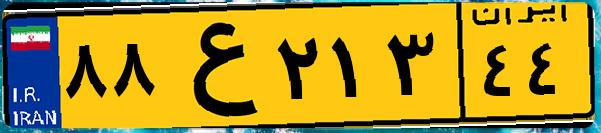1: (330, 28, 385, 110)
2: (270, 28, 330, 110)
3: (385, 28, 445, 110)
4: (475, 38, 525, 113), (525, 38, 570, 115)
8: (57, 26, 110, 100), (110, 28, 158, 98)
ع: (158, 12, 270, 120)
